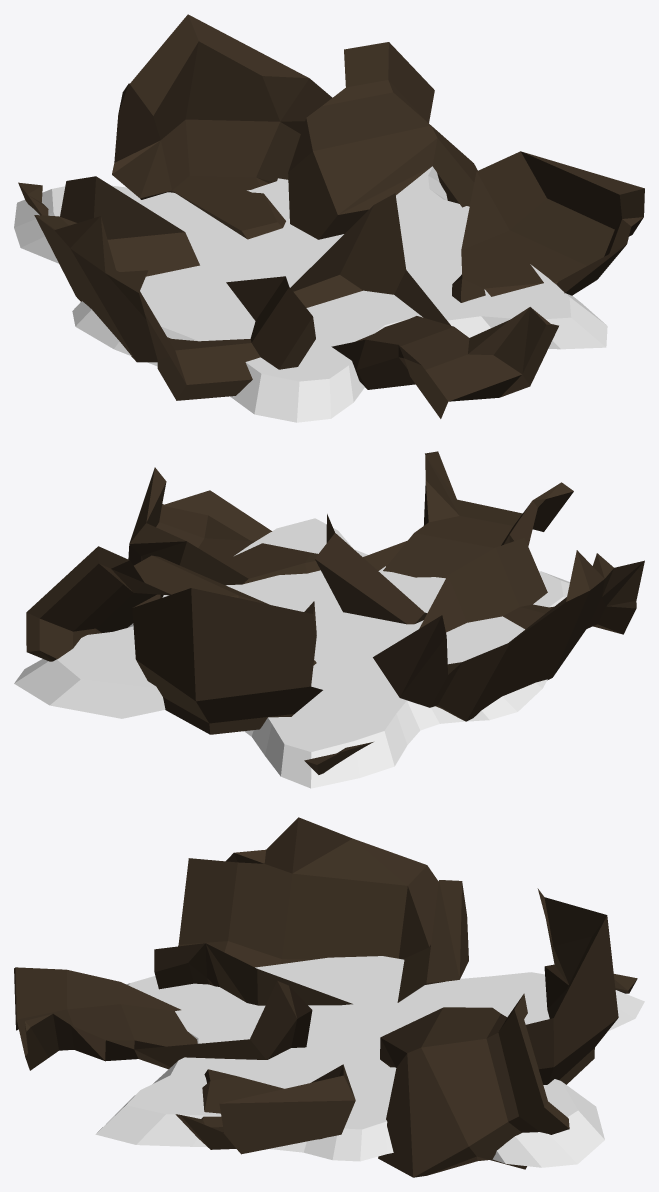
The model's file is jar_break.fbx.
3 renders of one model, top to bottom at view 1: azimuth 30°, elevation 25°; view 2: azimuth 150°, elevation 25°; view 3: azimuth 270°, elevation 25°, orthographic. The views are drawn at different scales.
Parts seen in each view (by area): view 1: jar-2, jar-2-2; view 2: jar-2, jar-2-2; view 3: jar-2, jar-2-2.
Boxes of the visible parts, x1,y1,x2,y2 form: jar-2: [18, 14, 644, 418]; jar-2-2: [14, 166, 607, 422]; jar-2: [26, 451, 644, 774]; jar-2-2: [14, 518, 569, 788]; jar-2: [14, 817, 637, 1177]; jar-2-2: [95, 956, 644, 1167].
Size of the model in its own units: 107 by 36.26 by 120.
